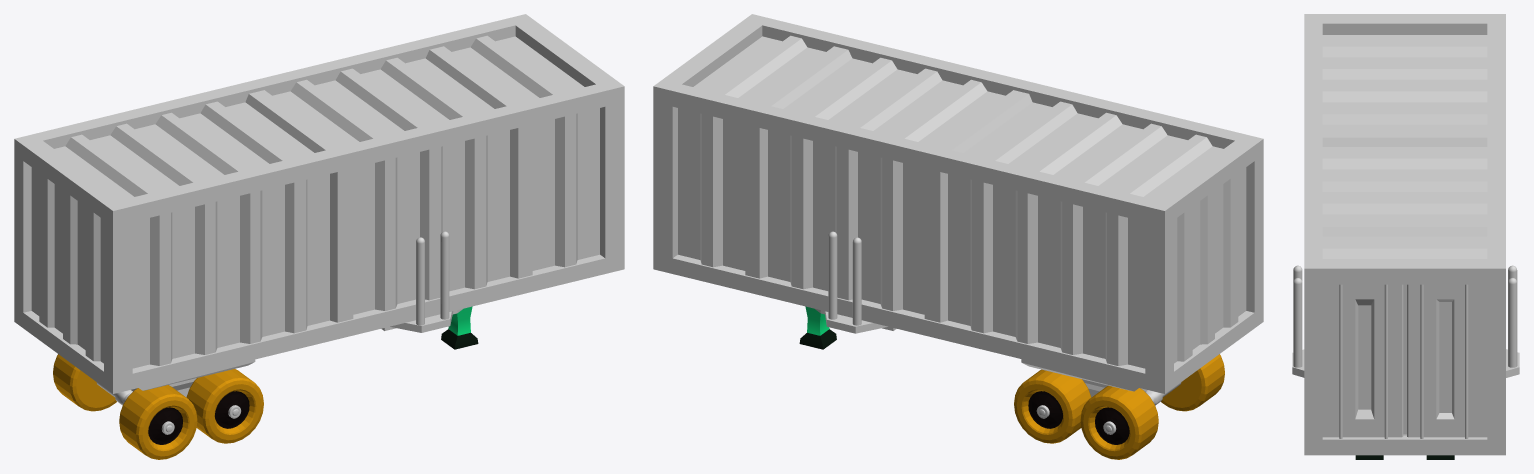
File: ShippingCrateID.fbx
The picture shows the model from 3 angles, left to right: view 1: azimuth 30°, elevation 25°; view 2: azimuth 150°, elevation 25°; view 3: azimuth 270°, elevation 25°; orthographic projection. The views are drawn at different scales.
Visible parts, largest first — view 1: CrateWall, polySurface7, CrateWall2, pPlane1, Wheel3, Wheel4, pCube3, pCylinder6, pCube1, pCylinder5, pCube2; view 2: CrateWall1, polySurface7, CrateWall2, pPlane1, Wheel3, Wheel4, pCube4, pCube1, pCylinder9, pCylinder10, pCube2; view 3: CrateWall2, polySurface7, polySurface6, pCylinder6, pCylinder10, LockBar, LockBar2, LockBar1, LockBar3, pCube2.
Part boxes in pixels (bbox=[...]): CrateWall: bbox=[132, 108, 599, 368]; polySurface7: bbox=[14, 14, 624, 393]; CrateWall2: bbox=[54, 35, 584, 199]; pPlane1: bbox=[31, 167, 103, 363]; Wheel3: bbox=[53, 354, 197, 459]; Wheel4: bbox=[186, 369, 263, 443]; pCube3: bbox=[441, 306, 478, 349]; pCylinder6: bbox=[440, 231, 449, 319]; pCube1: bbox=[131, 359, 255, 397]; pCylinder5: bbox=[416, 237, 424, 325]; pCube2: bbox=[381, 309, 462, 332]; CrateWall1: bbox=[678, 108, 1145, 368]; polySurface7: bbox=[653, 14, 1263, 393]; CrateWall2: bbox=[693, 35, 1223, 199]; pPlane1: bbox=[1174, 167, 1246, 363]; Wheel3: bbox=[1080, 354, 1224, 459]; Wheel4: bbox=[1014, 369, 1091, 443]; pCube4: bbox=[799, 306, 836, 349]; pCube1: bbox=[1021, 359, 1146, 397]; pCylinder9: bbox=[852, 237, 861, 325]; pCylinder10: bbox=[828, 231, 837, 319]; pCube2: bbox=[815, 309, 896, 333]; CrateWall2: bbox=[1322, 35, 1487, 258]; polySurface7: bbox=[1304, 14, 1505, 455]; polySurface6: bbox=[1322, 284, 1487, 437]; pCylinder6: bbox=[1293, 277, 1302, 367]; pCylinder10: bbox=[1508, 277, 1517, 367]; LockBar: bbox=[1339, 284, 1342, 438]; LockBar2: bbox=[1420, 284, 1423, 438]; LockBar1: bbox=[1465, 284, 1468, 438]; LockBar3: bbox=[1384, 284, 1387, 438]; pCube2: bbox=[1292, 349, 1519, 377].
Size of the model in its own units: 10.16 by 5.1 by 3.84.
